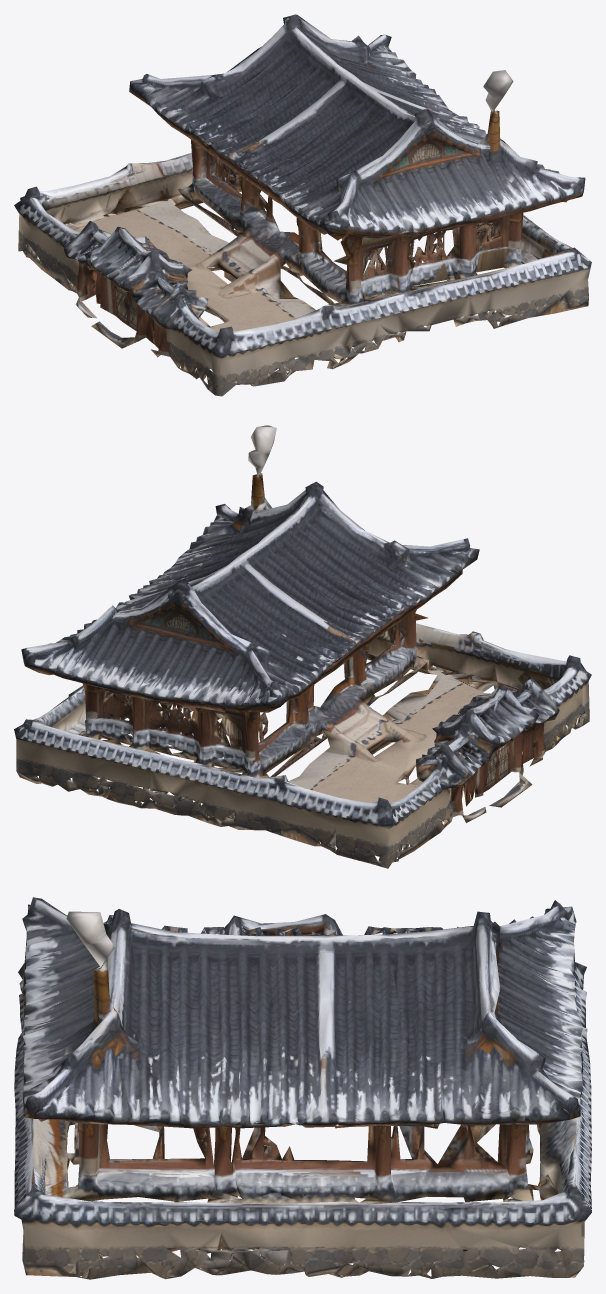
Rendered from PR_YukjoOffice_02.fbx.
3 renders of one model, top to bottom at view 1: azimuth 30°, elevation 25°; view 2: azimuth 150°, elevation 25°; view 3: azimuth 270°, elevation 25°, orthographic. The views are drawn at different scales.
Parts seen in each view (by area): view 1: texture_mapping; view 2: texture_mapping; view 3: texture_mapping.
Part boxes in pixels (bbox=[...]): texture_mapping: bbox=[14, 14, 591, 396]; texture_mapping: bbox=[14, 425, 591, 868]; texture_mapping: bbox=[14, 897, 591, 1279].
Bounding box in the file's own units: 0.9833 × 0.9006 × 0.5639.
Materials: 1 (1 with a texture image).
